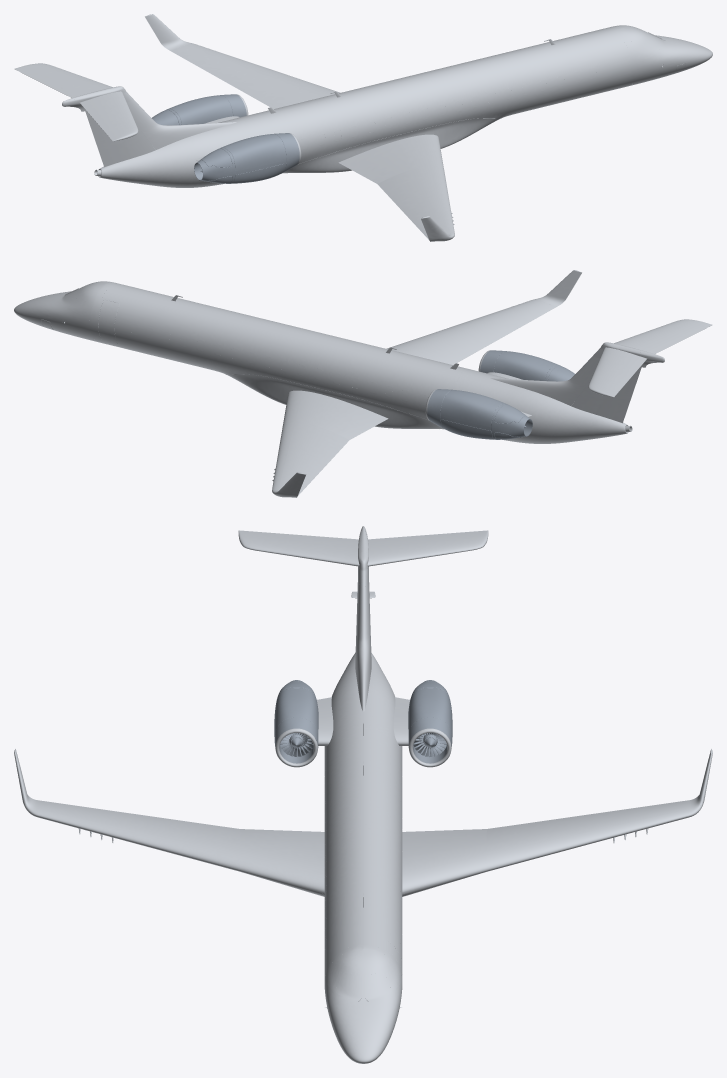
Rendered from jato-regional.glb.
The picture shows the model from 3 angles, top to bottom: view 1: azimuth 30°, elevation 25°; view 2: azimuth 150°, elevation 25°; view 3: azimuth 270°, elevation 25°; orthographic projection. The views are drawn at different scales.
Visible parts, largest first — view 1: Fuselagem, Asas, Motores, Deriva, Estabilizadores, Nariz, Winglets; view 2: Fuselagem, Asas, Motores, Deriva, Estabilizadores, Nariz, Winglets; view 3: Fuselagem, Asas, Nariz, Motores, Estabilizadores, Deriva, Winglets.
Part boxes in pixels (box(x1,y1,x2,y2)): Fuselagem: box(94, 27, 630, 187); Asas: box(171, 44, 454, 239); Motores: box(152, 94, 299, 183); Deriva: box(62, 86, 276, 175); Estabilizadores: box(14, 63, 138, 141); Nariz: box(610, 25, 712, 87); Winglets: box(145, 14, 454, 241); Fuselagem: box(96, 283, 632, 443); Asas: box(272, 300, 555, 495); Motores: box(427, 350, 574, 439); Deriva: box(450, 342, 664, 431); Estabilizadores: box(588, 319, 712, 397); Nariz: box(14, 281, 116, 343); Winglets: box(272, 270, 581, 497); Fuselagem: box(275, 652, 451, 987); Asas: box(37, 800, 689, 896); Nariz: box(324, 944, 402, 1063); Motores: box(274, 680, 452, 763); Estabilizadores: box(238, 530, 488, 566); Deriva: box(351, 526, 375, 735); Winglets: box(14, 749, 712, 817).
Size of the model in its own units: 5.2 by 1 by 3.84.
